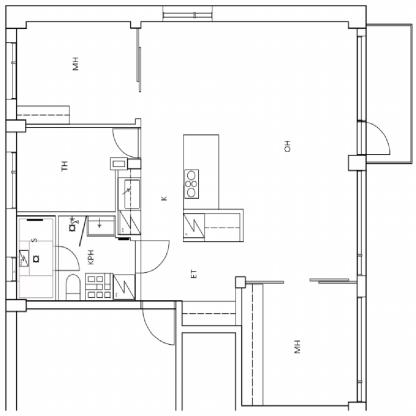door: (141, 303, 179, 349), (357, 119, 394, 158), (134, 238, 171, 274), (112, 128, 140, 160), (56, 244, 80, 274)
window: (355, 174, 368, 274), (356, 27, 367, 120), (357, 298, 366, 400), (162, 4, 212, 22), (5, 42, 17, 104), (6, 150, 16, 208), (5, 256, 17, 279)
zone: (139, 19, 357, 302), (19, 305, 175, 410), (240, 284, 359, 404), (18, 21, 139, 126), (16, 125, 138, 212), (58, 214, 139, 298), (366, 26, 410, 164), (182, 330, 239, 416), (16, 212, 58, 300)
